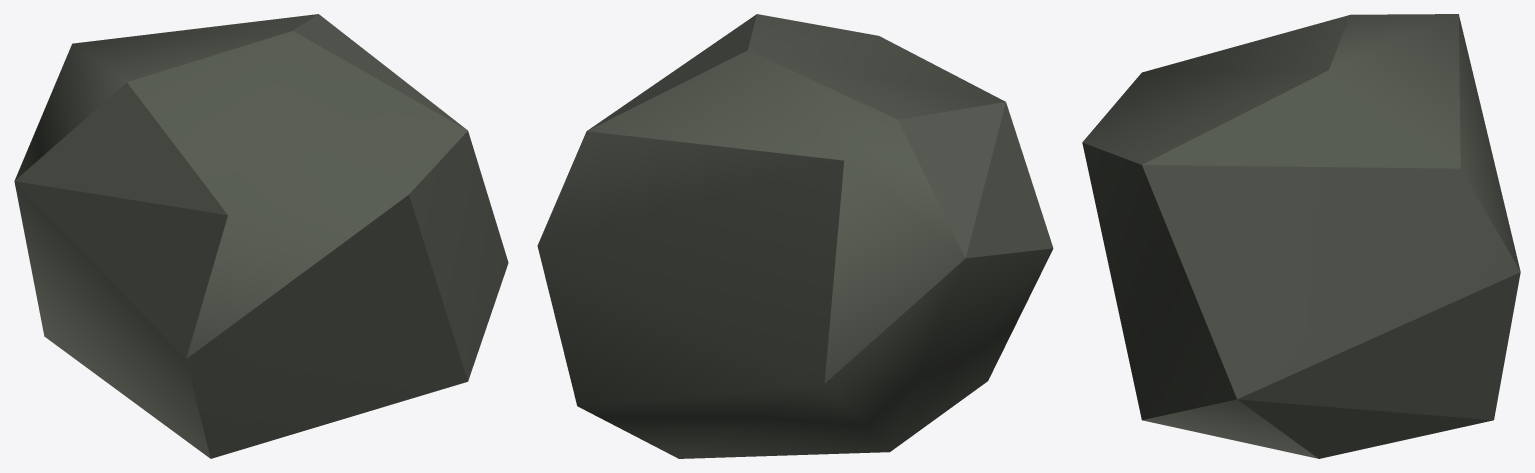
File: rock.fbx
3 renders of one model, left to right at view 1: azimuth 30°, elevation 25°; view 2: azimuth 150°, elevation 25°; view 3: azimuth 270°, elevation 25°, orthographic. The views are drawn at different scales.
Parts seen in each view (by area): view 1: pCube3; view 2: pCube3; view 3: pCube3.
Part boxes in pixels (left/top/right/bottom): pCube3: left=14, top=14, right=508, bottom=458; pCube3: left=537, top=14, right=1053, bottom=458; pCube3: left=1082, top=14, right=1520, bottom=458.
Bounding box in the file's own units: 13.83 × 11.22 × 12.45.
Materials: 1 (1 with a texture image).
